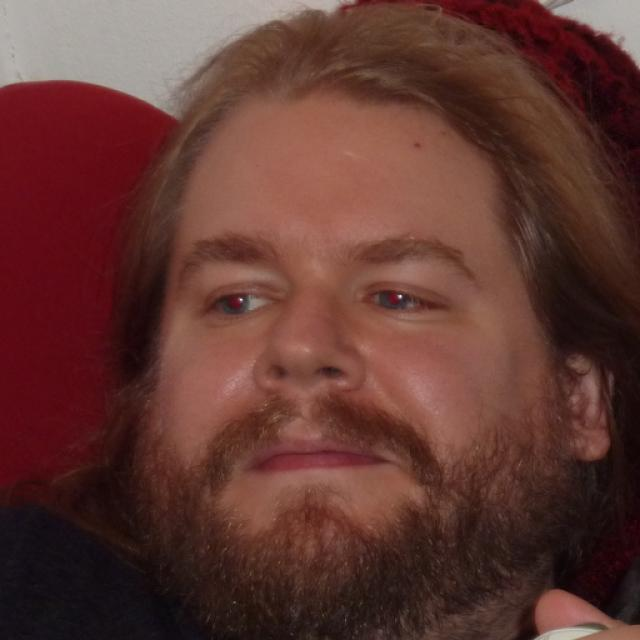0_rostro_limpio: (154, 12, 611, 613)
